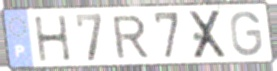7: (73, 11, 106, 64), (151, 11, 182, 62)
G: (228, 9, 265, 58)
H: (31, 13, 74, 64)
R: (110, 13, 151, 61)
X: (187, 8, 230, 62)
